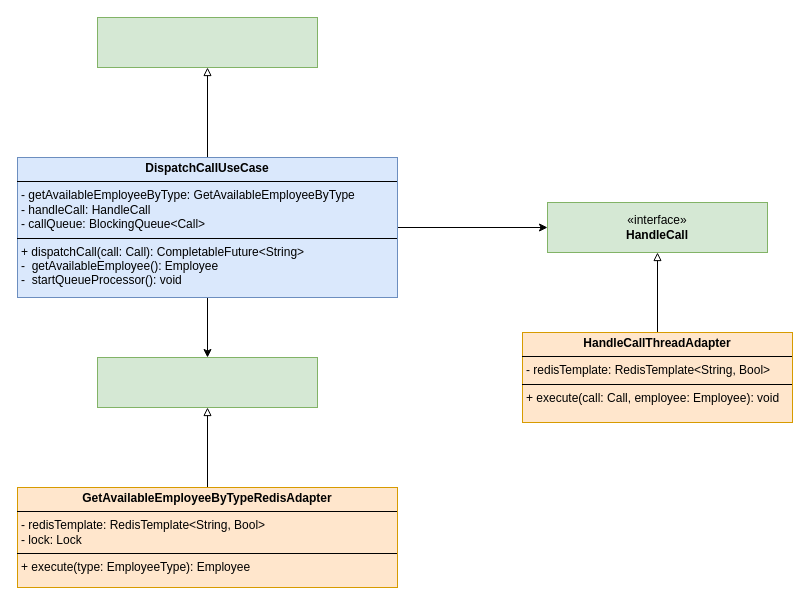
The diagram is 810 pixels wide and 605 high, and some of its shapes have lost their labels. Each missing label, with the centre of its shape:
«interface» Dispatcher<T>: pixel 207 42
«interface» GetAvailableEmployeeByType: pixel 207 382
